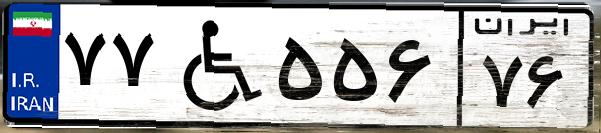5: (270, 28, 330, 110), (330, 28, 385, 110)
6: (385, 28, 445, 110), (525, 38, 570, 115)
7: (57, 26, 110, 100), (475, 38, 525, 113), (110, 28, 158, 98)
ژ (معلولین و جانبازان): (158, 12, 270, 120)
